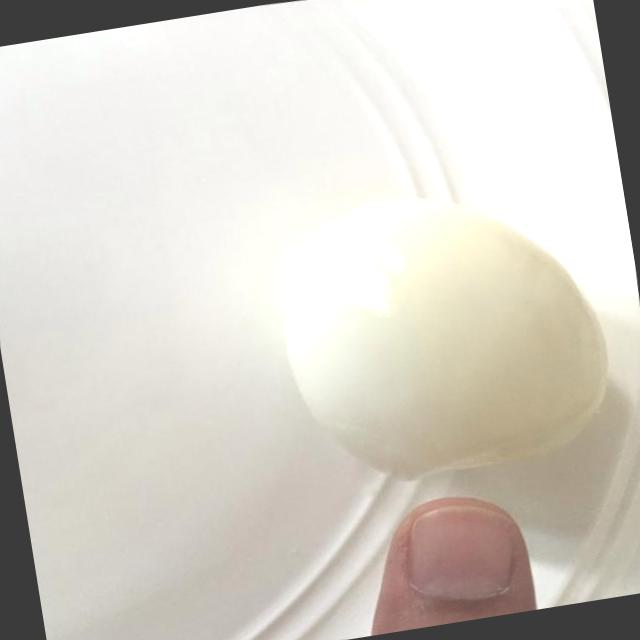Egg: (240, 147, 634, 514)
Finger: (334, 472, 582, 638)
